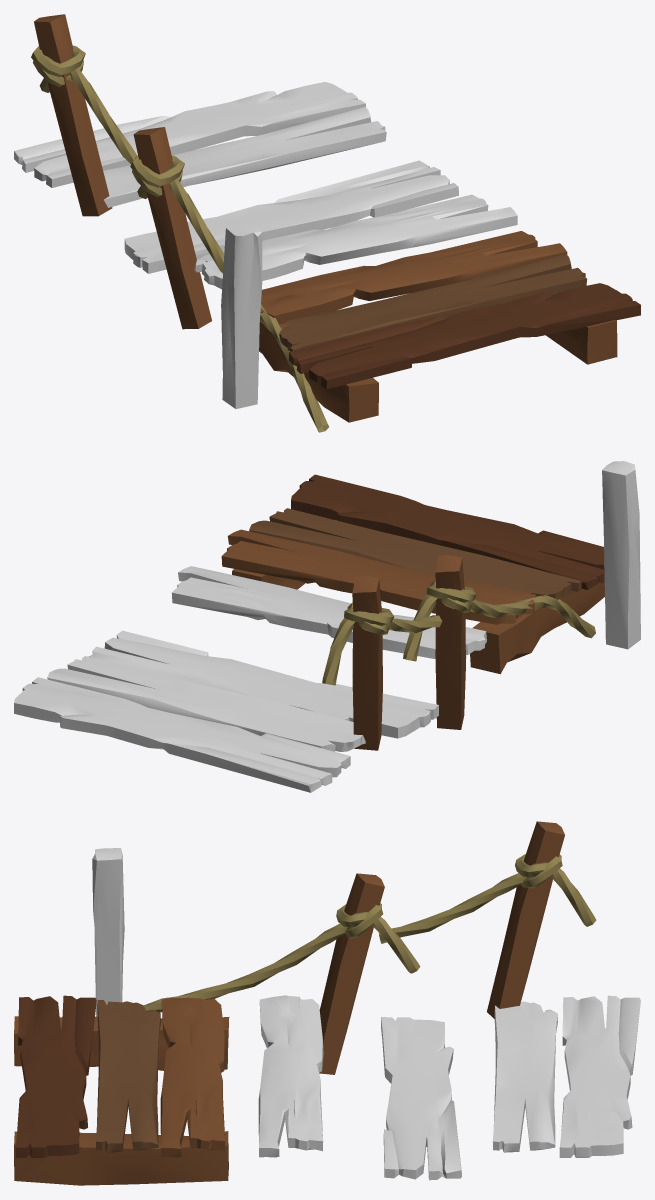
Rendered from EndsParts.fbx.
3 views of the same model, one above another, from view 1: azimuth 30°, elevation 25°; view 2: azimuth 150°, elevation 25°; view 3: azimuth 270°, elevation 25° (orthographic).
Visible parts, largest first — view 1: Rough Wooden Bridge_baked, Rough Wooden Bridge_baked.004, Rough Wooden Bridge_baked.007, Rough Wooden Bridge_baked.005, Rough Wooden Bridge_baked.003, Rough Wooden Bridge_baked.006, Rough Wooden Bridge_baked.001, Rough Wooden Bridge_baked.002; view 2: Rough Wooden Bridge_baked, Rough Wooden Bridge_baked.007, Rough Wooden Bridge_baked.006, Rough Wooden Bridge_baked.004, Rough Wooden Bridge_baked.005, Rough Wooden Bridge_baked.003, Rough Wooden Bridge_baked.001, Rough Wooden Bridge_baked.002; view 3: Rough Wooden Bridge_baked, Rough Wooden Bridge_baked.007, Rough Wooden Bridge_baked.004, Rough Wooden Bridge_baked.005, Rough Wooden Bridge_baked.003, Rough Wooden Bridge_baked.001, Rough Wooden Bridge_baked.006, Rough Wooden Bridge_baked.002.
Boxes of the visible parts, <box> form: Rough Wooden Bridge_baked: <box>259,231,640,422</box>; Rough Wooden Bridge_baked.004: <box>124,160,458,273</box>; Rough Wooden Bridge_baked.007: <box>14,82,365,187</box>; Rough Wooden Bridge_baked.005: <box>194,194,517,289</box>; Rough Wooden Bridge_baked.003: <box>130,127,328,432</box>; Rough Wooden Bridge_baked.006: <box>103,107,386,207</box>; Rough Wooden Bridge_baked.001: <box>31,14,137,216</box>; Rough Wooden Bridge_baked.002: <box>221,222,262,408</box>; Rough Wooden Bridge_baked: <box>221,474,604,674</box>; Rough Wooden Bridge_baked.007: <box>14,677,350,792</box>; Rough Wooden Bridge_baked.006: <box>47,656,365,751</box>; Rough Wooden Bridge_baked.004: <box>88,630,438,738</box>; Rough Wooden Bridge_baked.005: <box>172,566,486,659</box>; Rough Wooden Bridge_baked.003: <box>403,555,595,729</box>; Rough Wooden Bridge_baked.001: <box>322,575,442,750</box>; Rough Wooden Bridge_baked.002: <box>602,461,640,649</box>; Rough Wooden Bridge_baked: <box>14,995,229,1185</box>; Rough Wooden Bridge_baked.007: <box>559,995,640,1157</box>; Rough Wooden Bridge_baked.004: <box>381,1017,461,1180</box>; Rough Wooden Bridge_baked.005: <box>258,995,323,1157</box>; Rough Wooden Bridge_baked.003: <box>144,873,420,1074</box>; Rough Wooden Bridge_baked.001: <box>378,821,596,1018</box>; Rough Wooden Bridge_baked.006: <box>492,1001,557,1152</box>; Rough Wooden Bridge_baked.002: <box>92,848,124,1016</box>.
Size of the model in its own units: 315 by 195 by 461.
